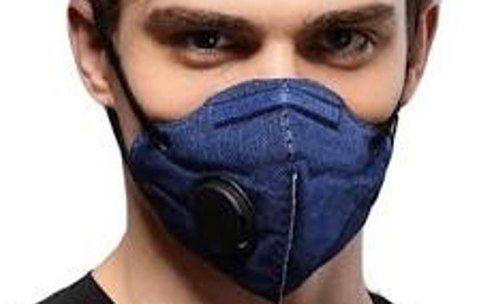mask: (49, 2, 472, 304)
